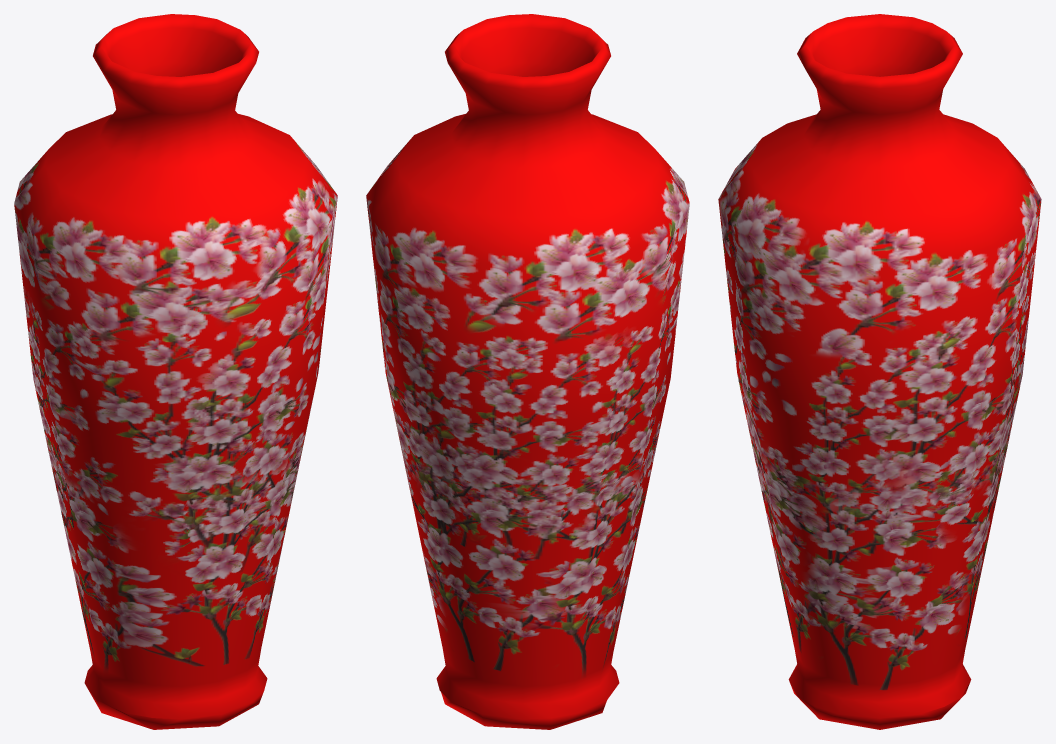
The model's file is JVase_5_5.fbx.
3 renders of one model, left to right at view 1: azimuth 30°, elevation 25°; view 2: azimuth 150°, elevation 25°; view 3: azimuth 270°, elevation 25°, orthographic.
Visible parts, largest first — view 1: JVase_5_5; view 2: JVase_5_5; view 3: JVase_5_5.
Part boxes in pixels (box(x1,y1,x2,y2)): JVase_5_5: box(14, 14, 337, 729); JVase_5_5: box(366, 14, 689, 729); JVase_5_5: box(718, 14, 1041, 729).
Size of the model in its own units: 26.88 by 59.49 by 26.88.
